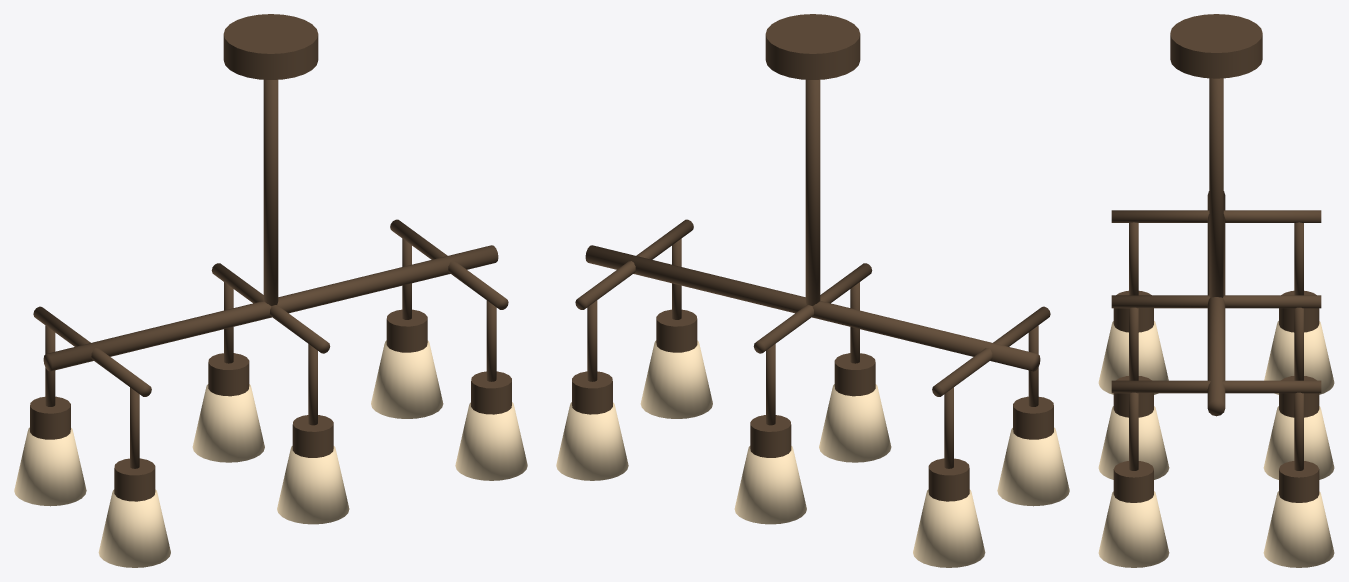
Rendered from dining_chandelier.glb.
The picture shows the model from 3 angles, left to right: view 1: azimuth 30°, elevation 25°; view 2: azimuth 150°, elevation 25°; view 3: azimuth 270°, elevation 25°; orthographic projection. The views are drawn at different scales.
Parts seen in each view (by area): view 1: dining_chandelier_003_long_frame, dining_chandelier_001_ceiling_canopy, dining_chandelier_014_shade_+0.0_-0.2, dining_chandelier_021_shade_+0.5_-0.2, dining_chandelier_024_shade_+0.5_+0.2, dining_chandelier_017_shade_+0.0_+0.2, dining_chandelier_007_shade_-0.5_-0.2, dining_chandelier_010_shade_-0.5_+0.2, dining_chandelier_002_drop_stem, dining_chandelier_018_crossbar_+0.5, dining_chandelier_004_crossbar_-0.5, dining_chandelier_011_crossbar_+0.0 (+10 smaller); view 2: dining_chandelier_003_long_frame, dining_chandelier_001_ceiling_canopy, dining_chandelier_017_shade_+0.0_+0.2, dining_chandelier_024_shade_+0.5_+0.2, dining_chandelier_021_shade_+0.5_-0.2, dining_chandelier_014_shade_+0.0_-0.2, dining_chandelier_010_shade_-0.5_+0.2, dining_chandelier_007_shade_-0.5_-0.2, dining_chandelier_002_drop_stem, dining_chandelier_018_crossbar_+0.5, dining_chandelier_004_crossbar_-0.5, dining_chandelier_011_crossbar_+0.0 (+10 smaller); view 3: dining_chandelier_001_ceiling_canopy, dining_chandelier_021_shade_+0.5_-0.2, dining_chandelier_024_shade_+0.5_+0.2, dining_chandelier_002_drop_stem, dining_chandelier_014_shade_+0.0_-0.2, dining_chandelier_017_shade_+0.0_+0.2, dining_chandelier_003_long_frame, dining_chandelier_018_crossbar_+0.5, dining_chandelier_011_crossbar_+0.0, dining_chandelier_007_shade_-0.5_-0.2, dining_chandelier_010_shade_-0.5_+0.2, dining_chandelier_004_crossbar_-0.5 (+12 smaller).
Boxes of the visible parts, bbox=[...] form: dining_chandelier_003_long_frame: bbox=[43, 245, 498, 371]; dining_chandelier_001_ceiling_canopy: bbox=[223, 14, 318, 79]; dining_chandelier_014_shade_+0.0_-0.2: bbox=[192, 384, 264, 462]; dining_chandelier_021_shade_+0.5_-0.2: bbox=[371, 340, 443, 418]; dining_chandelier_024_shade_+0.5_+0.2: bbox=[455, 402, 527, 480]; dining_chandelier_017_shade_+0.0_+0.2: bbox=[277, 446, 349, 524]; dining_chandelier_007_shade_-0.5_-0.2: bbox=[14, 427, 86, 506]; dining_chandelier_010_shade_-0.5_+0.2: bbox=[98, 489, 170, 567]; dining_chandelier_002_drop_stem: bbox=[263, 79, 278, 305]; dining_chandelier_018_crossbar_+0.5: bbox=[390, 219, 508, 309]; dining_chandelier_004_crossbar_-0.5: bbox=[33, 306, 151, 396]; dining_chandelier_011_crossbar_+0.0: bbox=[211, 263, 330, 353]; dining_chandelier_003_long_frame: bbox=[585, 245, 1040, 371]; dining_chandelier_001_ceiling_canopy: bbox=[765, 14, 860, 79]; dining_chandelier_017_shade_+0.0_+0.2: bbox=[819, 384, 891, 462]; dining_chandelier_024_shade_+0.5_+0.2: bbox=[640, 340, 712, 418]; dining_chandelier_021_shade_+0.5_-0.2: bbox=[556, 402, 628, 480]; dining_chandelier_014_shade_+0.0_-0.2: bbox=[734, 446, 806, 524]; dining_chandelier_010_shade_-0.5_+0.2: bbox=[997, 427, 1069, 506]; dining_chandelier_007_shade_-0.5_-0.2: bbox=[913, 489, 985, 567]; dining_chandelier_002_drop_stem: bbox=[805, 79, 820, 305]; dining_chandelier_018_crossbar_+0.5: bbox=[575, 219, 693, 309]; dining_chandelier_004_crossbar_-0.5: bbox=[932, 306, 1050, 396]; dining_chandelier_011_crossbar_+0.0: bbox=[753, 263, 872, 353]; dining_chandelier_001_ceiling_canopy: bbox=[1170, 14, 1262, 78]; dining_chandelier_021_shade_+0.5_-0.2: bbox=[1263, 491, 1334, 567]; dining_chandelier_024_shade_+0.5_+0.2: bbox=[1098, 491, 1169, 567]; dining_chandelier_002_drop_stem: bbox=[1209, 78, 1223, 297]; dining_chandelier_014_shade_+0.0_-0.2: bbox=[1263, 406, 1334, 479]; dining_chandelier_017_shade_+0.0_+0.2: bbox=[1098, 406, 1169, 479]; dining_chandelier_003_long_frame: bbox=[1207, 191, 1225, 416]; dining_chandelier_018_crossbar_+0.5: bbox=[1111, 380, 1321, 393]; dining_chandelier_011_crossbar_+0.0: bbox=[1111, 295, 1321, 308]; dining_chandelier_007_shade_-0.5_-0.2: bbox=[1264, 321, 1334, 394]; dining_chandelier_010_shade_-0.5_+0.2: bbox=[1098, 321, 1168, 394]; dining_chandelier_004_crossbar_-0.5: bbox=[1111, 210, 1321, 222].
Bounding box in the file's own units: 1.25 × 1.19 × 0.586.
